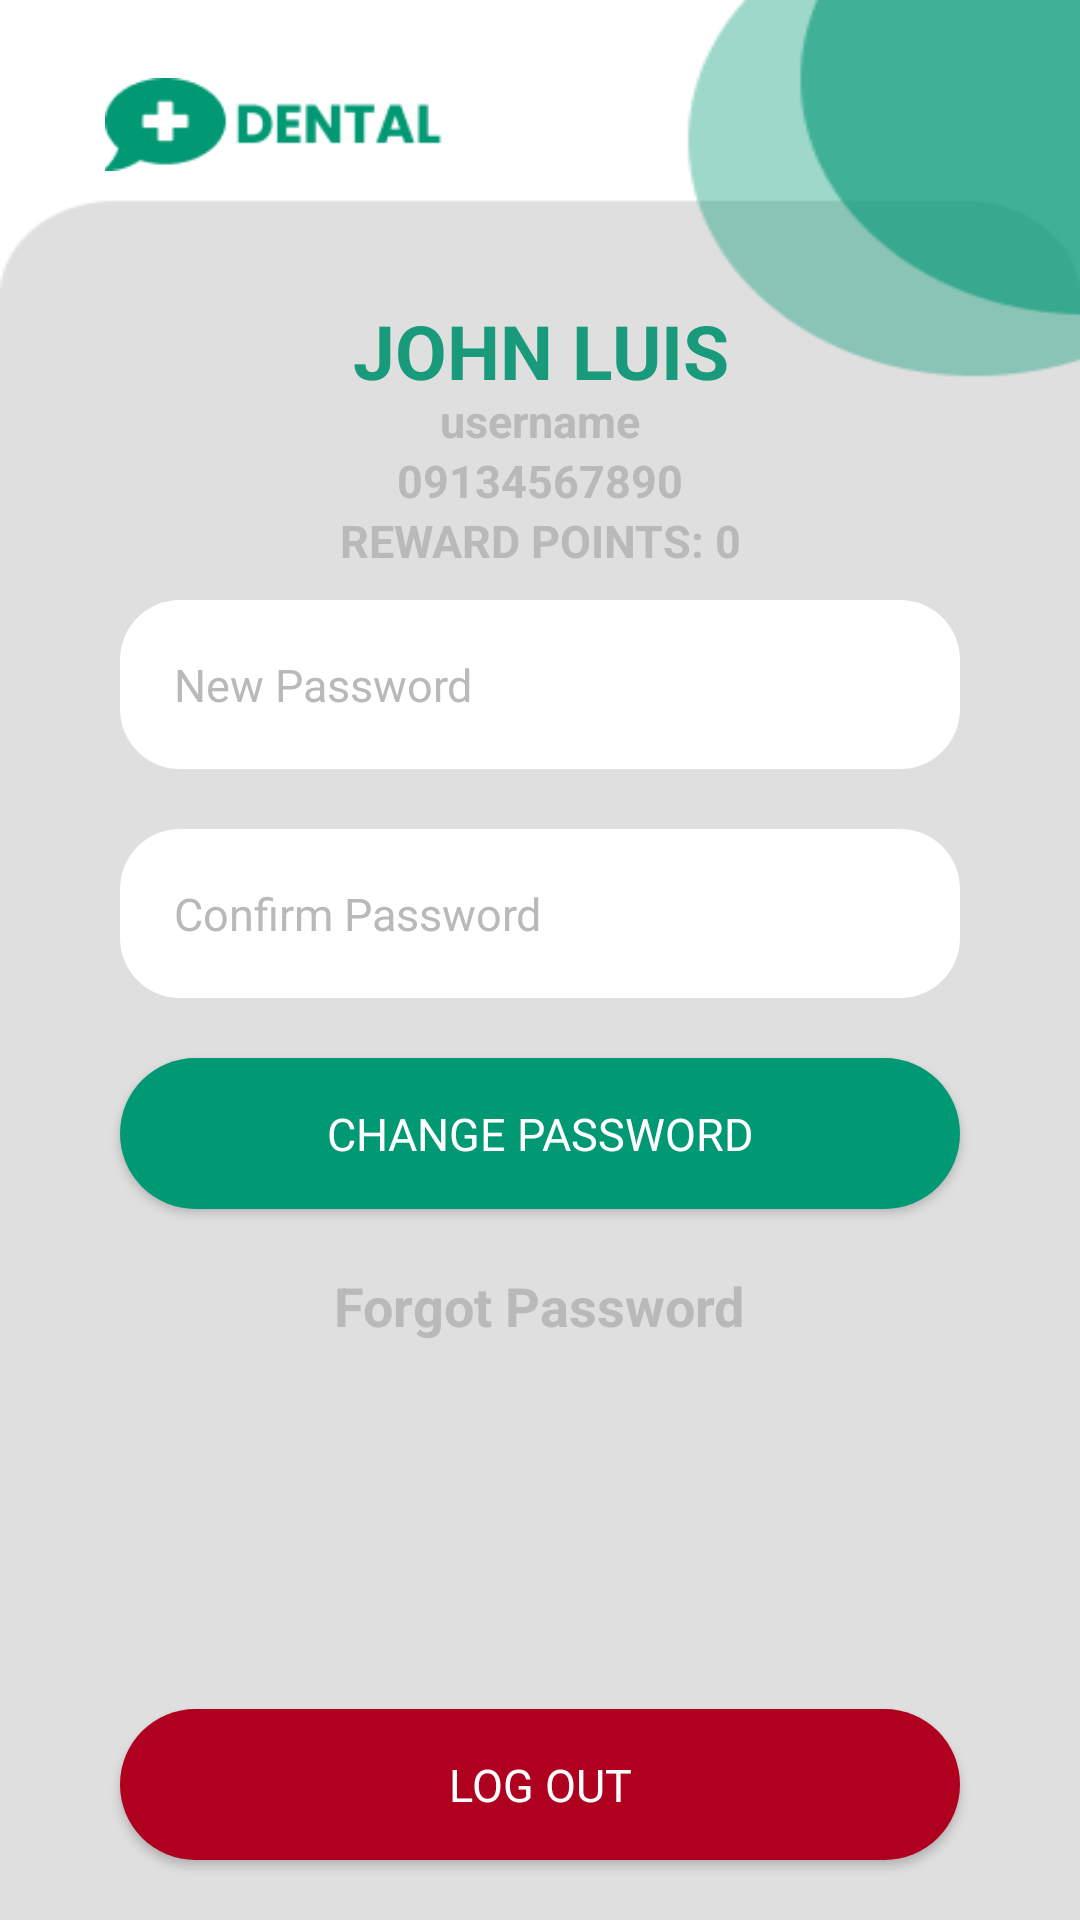

Named icons in this screenshot (1080×1920) and their bounding boxes, (x1, y1, x2, y2):
iconwithname: (105, 78, 442, 171)
